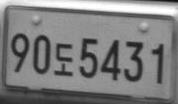0: (32, 33, 51, 75)
1: (147, 42, 170, 84)
3: (122, 40, 143, 83)
4: (99, 38, 121, 80)
5: (78, 37, 98, 78)
9: (9, 32, 30, 73)
도: (52, 42, 74, 76)
